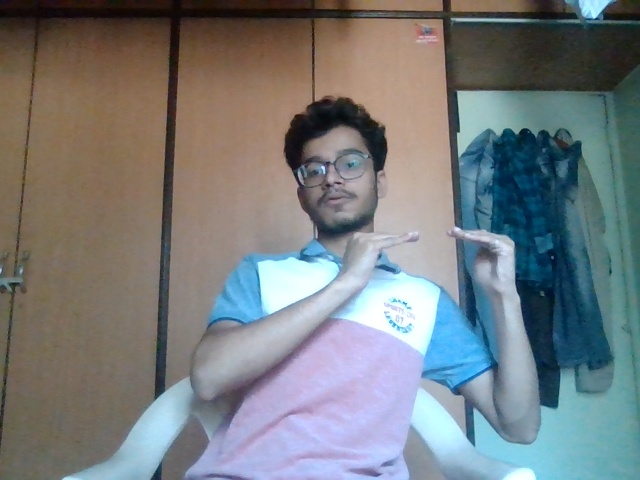afternoon: (320, 217, 540, 318)
